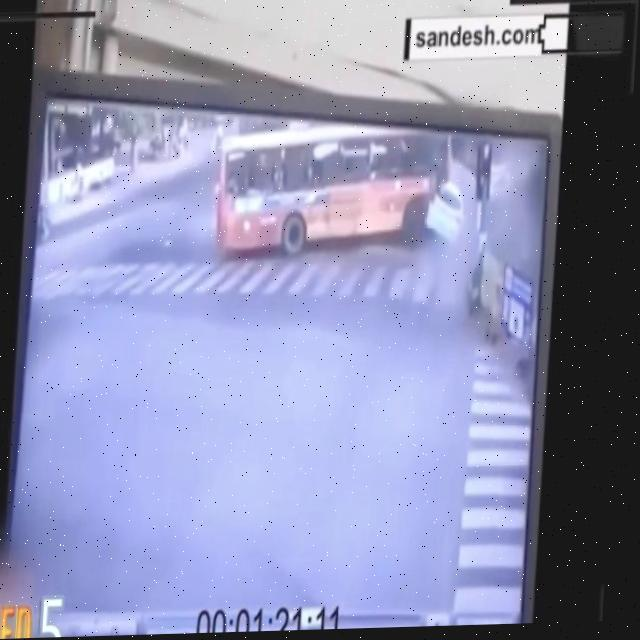multiple_accident: (177, 112, 523, 287)
